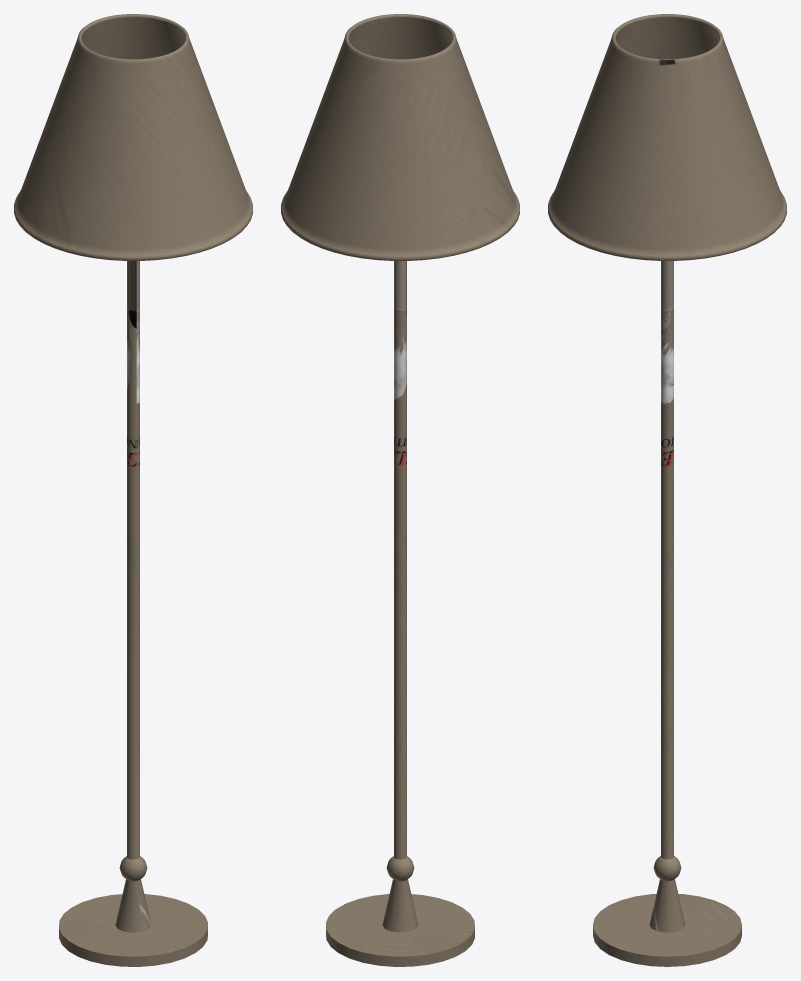
The model's file is Floor Lamp.fbx.
3 renders of one model, left to right at view 1: azimuth 30°, elevation 25°; view 2: azimuth 150°, elevation 25°; view 3: azimuth 270°, elevation 25°, orthographic.
Visible parts, largest first — view 1: Floor_Lamp_LOD00; view 2: Floor_Lamp_LOD00; view 3: Floor_Lamp_LOD00.
Part boxes in pixels (left/top/right/bottom): Floor_Lamp_LOD00: left=14, top=14, right=252, bottom=966; Floor_Lamp_LOD00: left=281, top=14, right=519, bottom=966; Floor_Lamp_LOD00: left=548, top=14, right=786, bottom=966.
Size of what is drawn, in the model's own units: 20.58 by 85.38 by 20.58.
